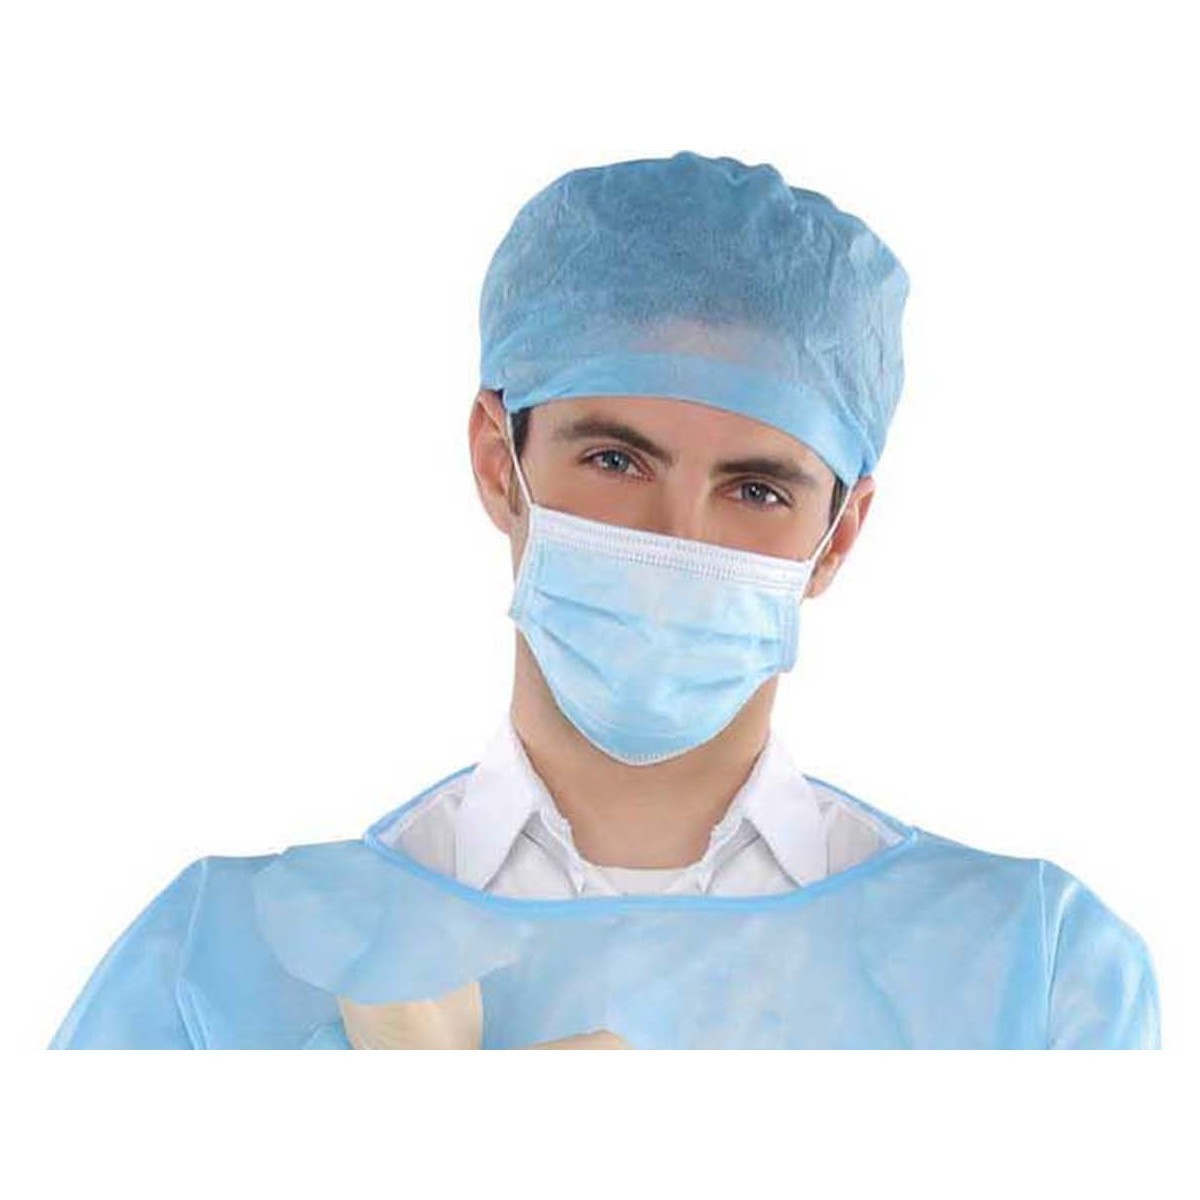mask: (502, 526, 816, 737)
